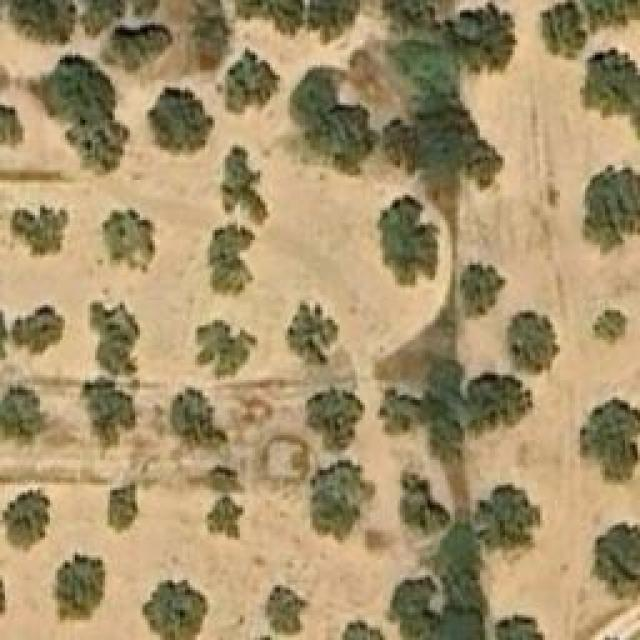Tree: (468, 310, 561, 433), (577, 47, 640, 154), (310, 460, 373, 543), (580, 398, 640, 481), (582, 165, 640, 250), (380, 195, 440, 275), (147, 85, 215, 155), (88, 207, 158, 275), (38, 63, 113, 123), (60, 112, 131, 174), (313, 108, 376, 174), (53, 553, 108, 626), (220, 145, 270, 225), (143, 580, 208, 640), (83, 378, 136, 451), (592, 520, 640, 600), (307, 388, 365, 451), (13, 0, 83, 51), (207, 225, 255, 298), (92, 303, 140, 376), (288, 298, 338, 368), (475, 485, 530, 548), (228, 48, 281, 113), (0, 488, 50, 553), (395, 475, 445, 540), (173, 387, 228, 445), (460, 10, 518, 65), (535, 0, 586, 60), (390, 580, 438, 640), (0, 385, 48, 443), (13, 205, 68, 255), (105, 25, 165, 68), (265, 580, 313, 633), (460, 265, 508, 318), (200, 320, 248, 373), (307, 0, 367, 42), (15, 310, 70, 355), (240, 0, 305, 32), (385, 0, 440, 32), (582, 0, 640, 28), (108, 483, 138, 536), (493, 615, 543, 640), (210, 500, 240, 540), (593, 310, 628, 343), (340, 617, 387, 640), (0, 105, 25, 148), (203, 468, 238, 493), (100, 0, 148, 18)
